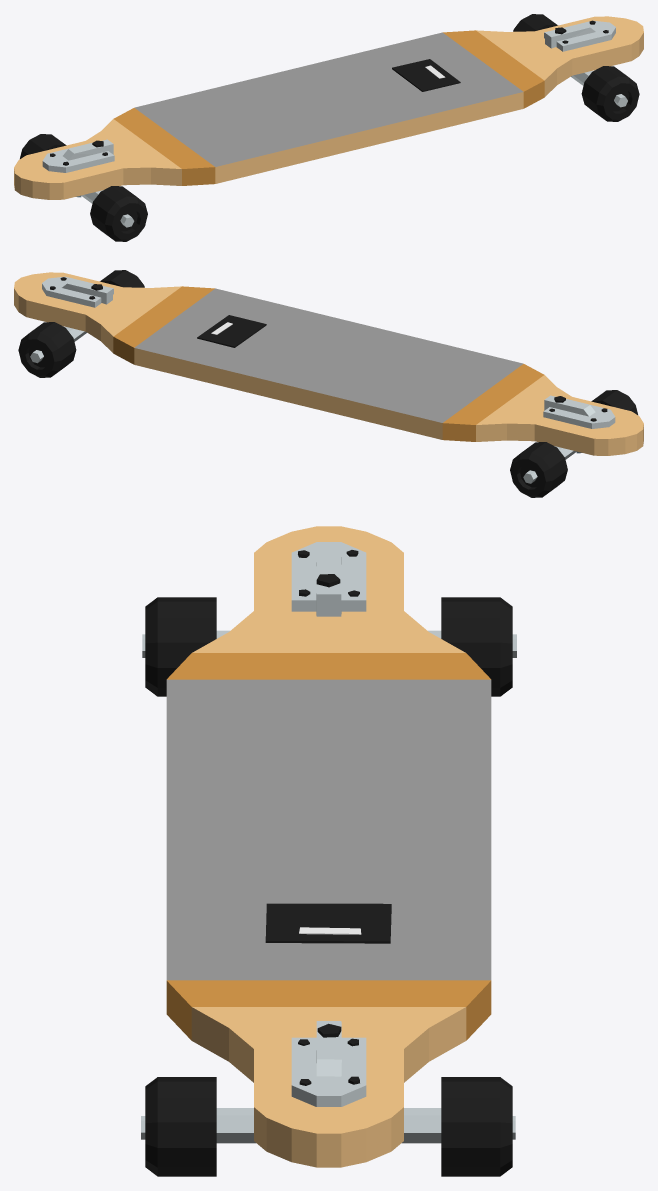
File: Long board (Skateboard).glb
The picture shows the model from 3 angles, top to bottom: view 1: azimuth 30°, elevation 25°; view 2: azimuth 150°, elevation 25°; view 3: azimuth 270°, elevation 25°; orthographic projection. The views are drawn at different scales.
Visible parts, largest first — view 1: group1612288391, group1819190260, group1169100474, group1228952574; view 2: group1612288391, group1819190260, group1169100474, group1228952574; view 3: group1612288391, group1169100474, group1819190260, group1228952574.
Part boxes in pixels (bbox=[...]): group1612288391: bbox=[14, 16, 643, 199]; group1819190260: bbox=[20, 134, 147, 241]; group1169100474: bbox=[513, 14, 639, 121]; group1228952574: bbox=[392, 59, 460, 91]; group1612288391: bbox=[14, 272, 643, 455]; group1819190260: bbox=[510, 390, 637, 497]; group1169100474: bbox=[18, 270, 144, 377]; group1228952574: bbox=[197, 315, 266, 347]; group1612288391: bbox=[166, 526, 491, 1167]; group1169100474: bbox=[141, 1021, 515, 1176]; group1819190260: bbox=[142, 542, 516, 696]; group1228952574: bbox=[265, 903, 391, 943].
Size of the model in its own units: 1.15 by 0.1138 by 0.301.
